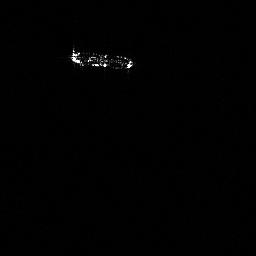ship: (68, 49, 134, 69)
